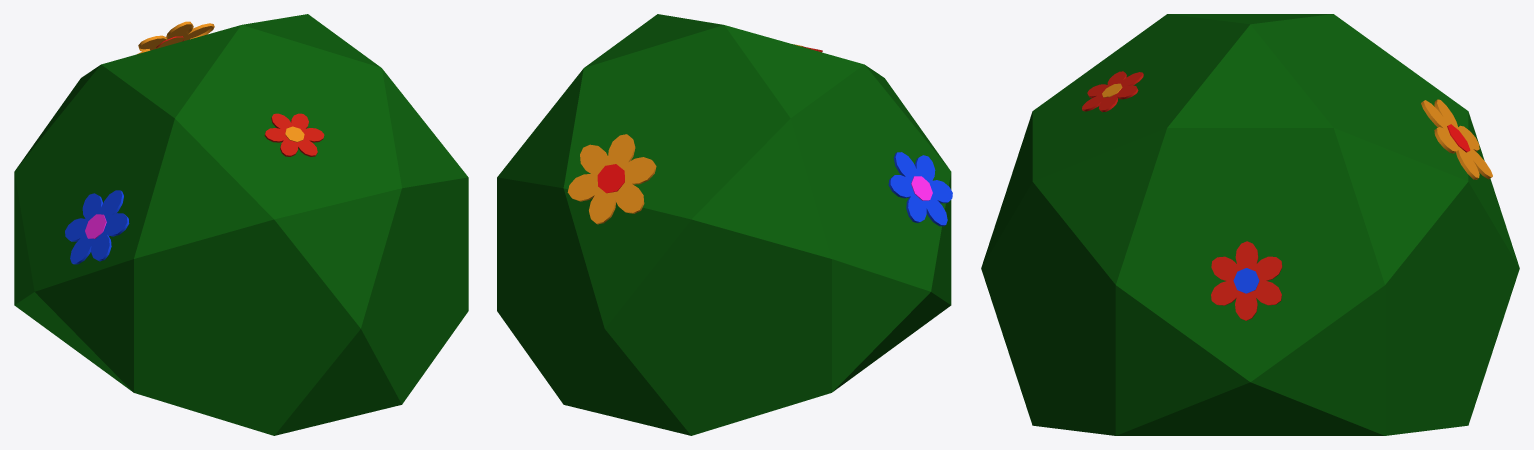
Rendered from lum cay.FBX.
3 renders of one model, left to right at view 1: azimuth 30°, elevation 25°; view 2: azimuth 150°, elevation 25°; view 3: azimuth 270°, elevation 25°, orthographic. The views are drawn at different scales.
Parts seen in each view (by area): view 1: Object1377; view 2: Object1377; view 3: Object1377.
Part boxes in pixels (x1,y1,x2,y2): Object1377: [14, 14, 468, 435]; Object1377: [497, 14, 952, 435]; Object1377: [981, 14, 1519, 435].
Bounding box in the file's own units: 5.19 × 3.89 × 5.19.
